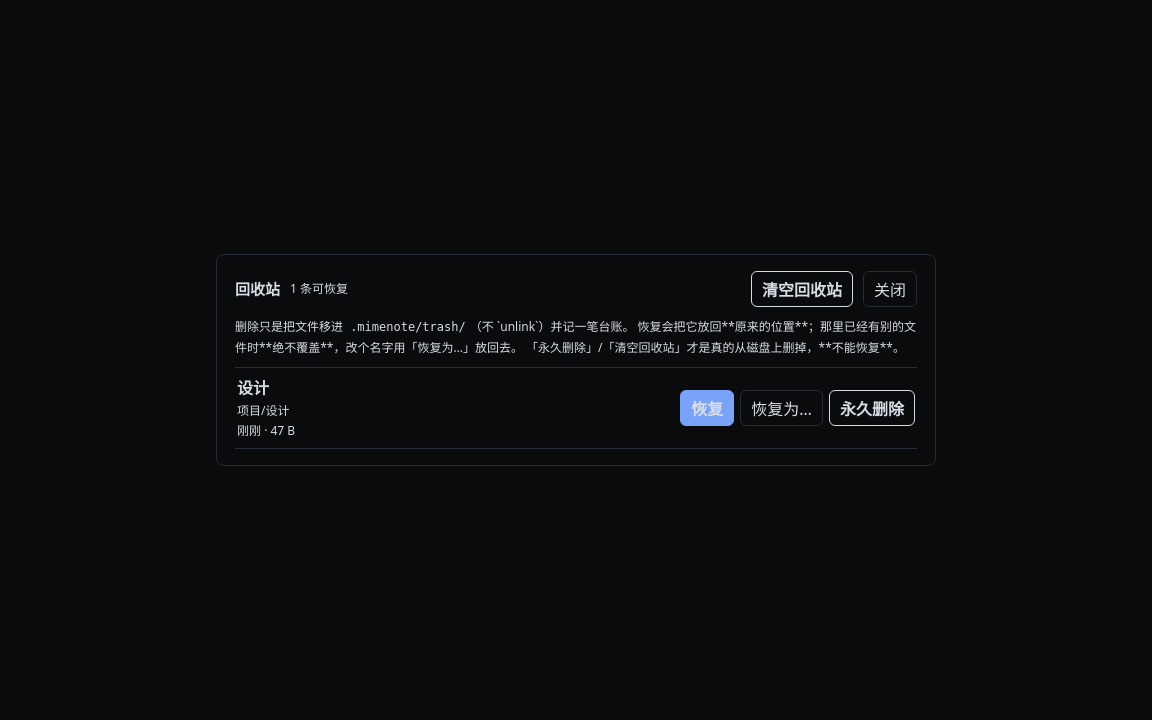
it: 永久删除与清空 › 行内「永久删除」：确认框说清不能恢复 → 确认 → 调 trash_delete(confirm) → 汇报并移除
What coordinates should you click on to do the following:
click the button "永久删除"
I would click on:
 (872, 408)
Its box is x1=829 y1=390 x2=915 y2=426.
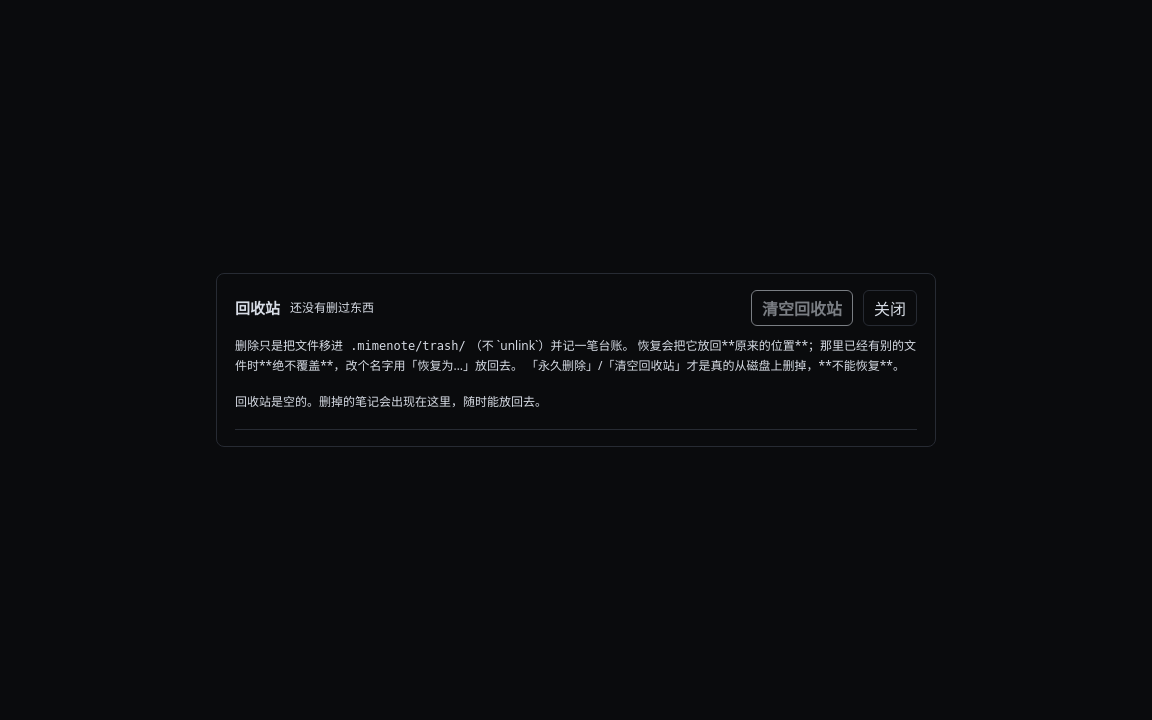
Now the text "设计" is gone
